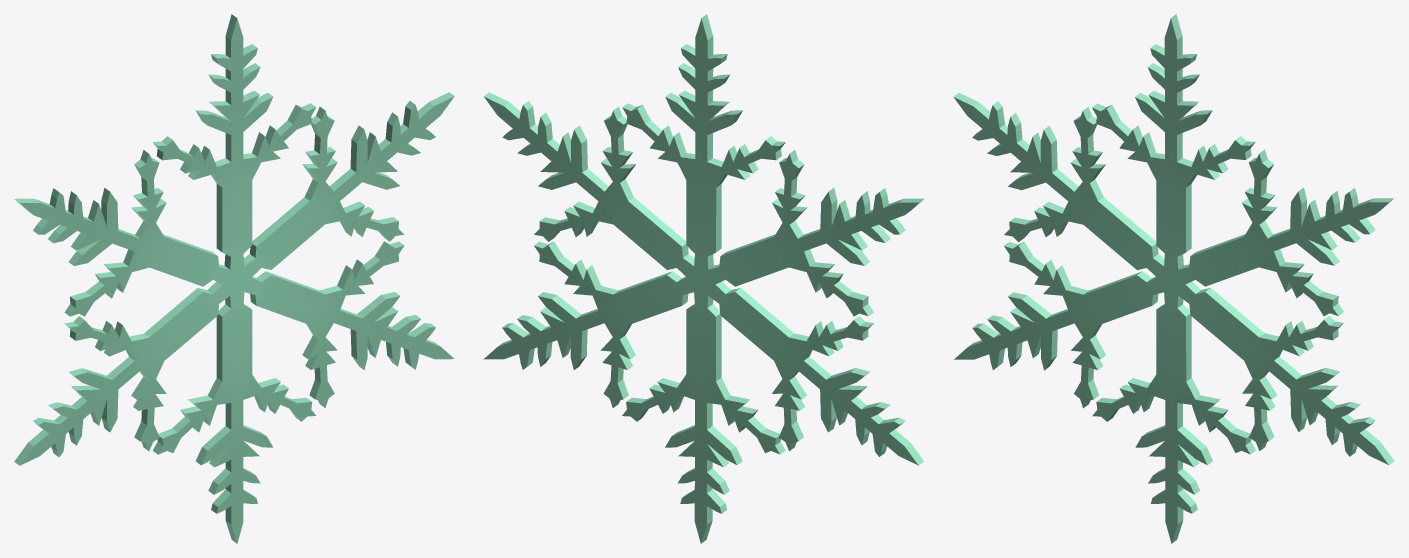
File: Snowflake.002.glb
The picture shows the model from 3 angles, left to right: view 1: azimuth 30°, elevation 25°; view 2: azimuth 150°, elevation 25°; view 3: azimuth 330°, elevation 25°; orthographic projection.
Parts seen in each view (by area): view 1: Snowflake.002; view 2: Snowflake.002; view 3: Snowflake.002.
Boxes of the visible parts, <box> form: Snowflake.002: <box>14,14,454,543</box>; Snowflake.002: <box>484,14,923,543</box>; Snowflake.002: <box>953,14,1394,543</box>.
Bounding box in the file's own units: 1072 × 1238 × 25.73.
